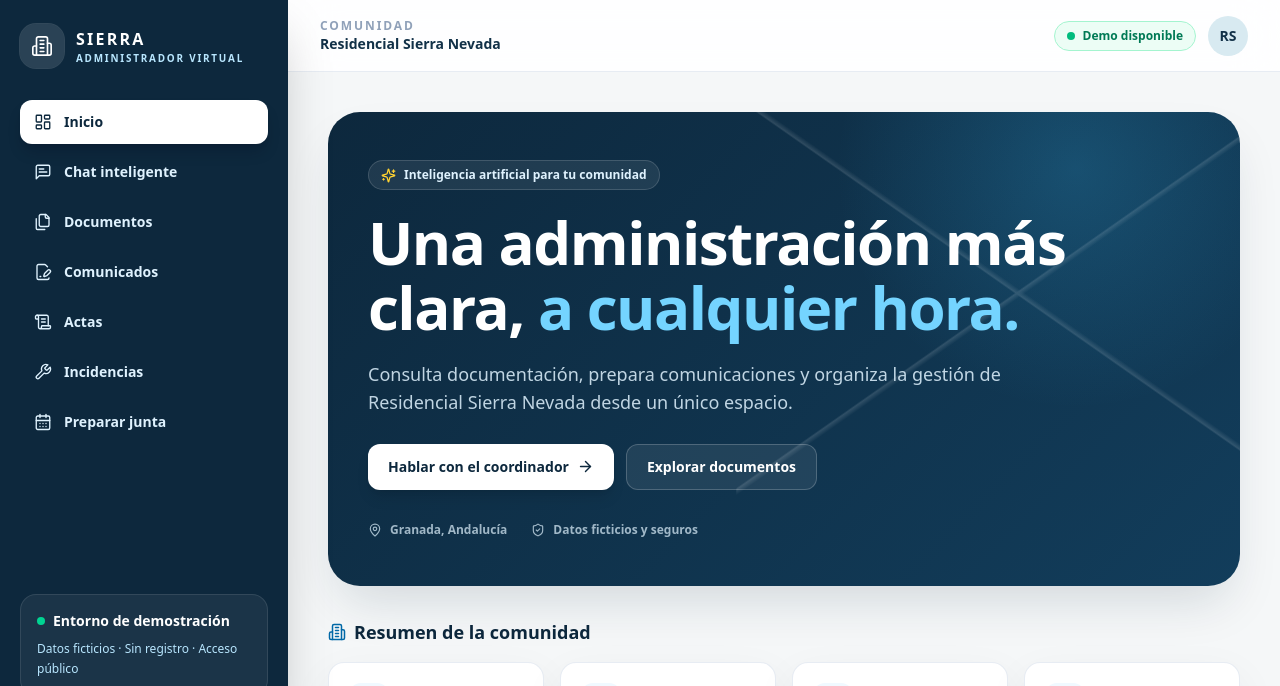
Test: App › navega a Preparar junta desde la navegación principal
Click the link "Preparar junta": (100, 422) [34,412,166,431]
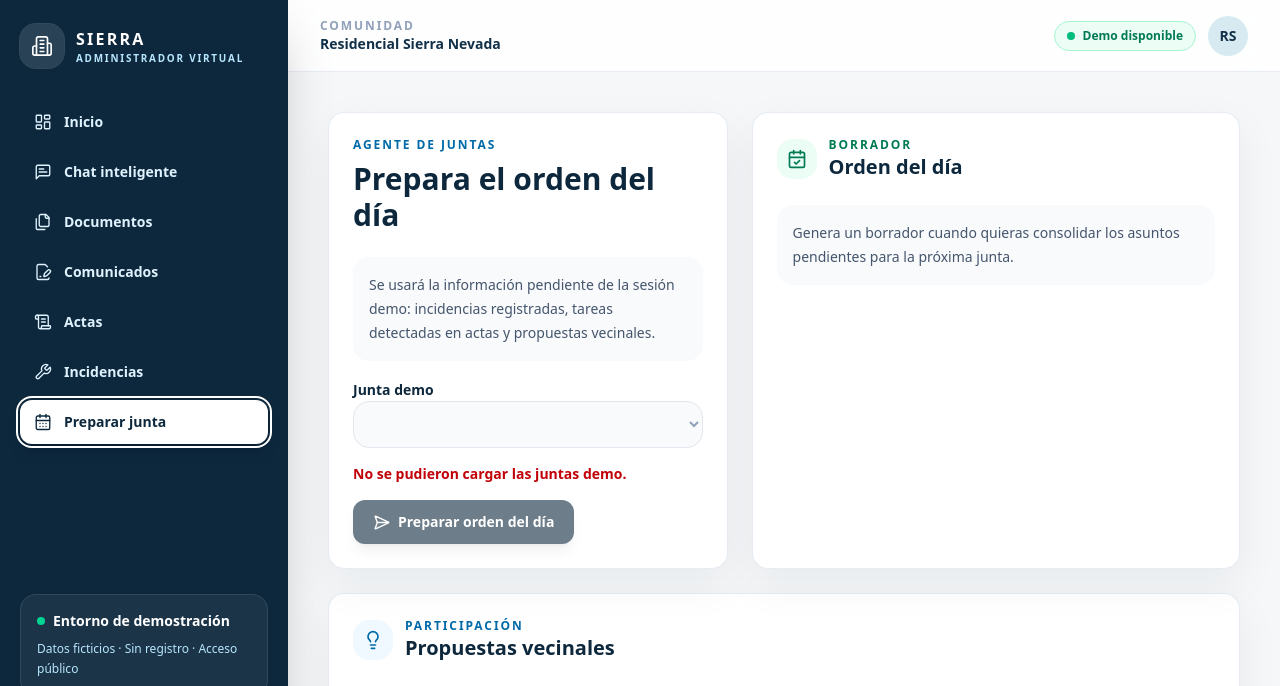
Now the heading "Prepara el orden del día" is shown, box [353,161,703,233]
